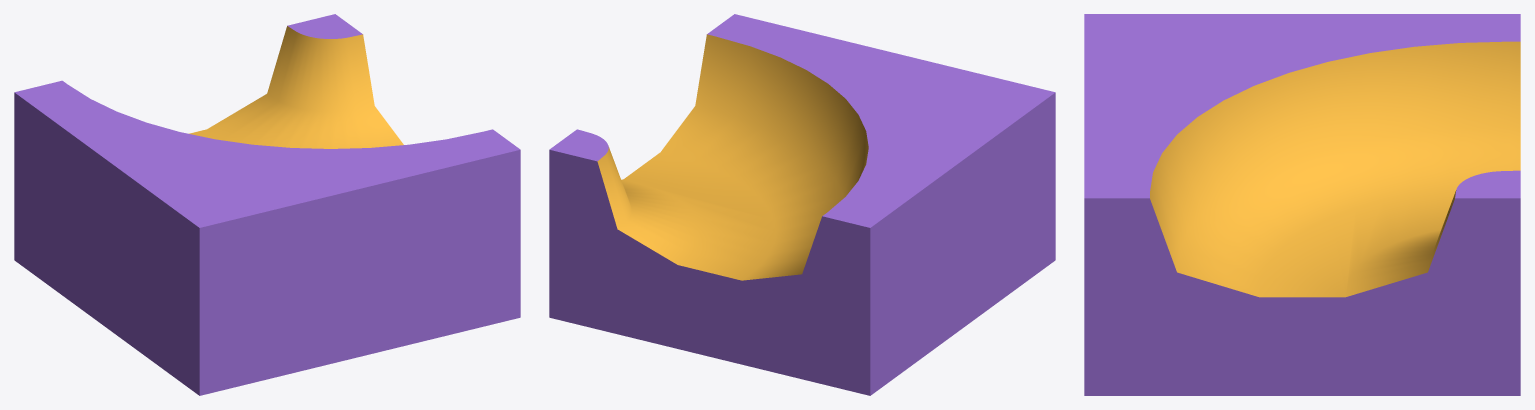
Rendered from corner-solid-col.glb.
3 views of the same model, side by side, from view 1: azimuth 30°, elevation 25°; view 2: azimuth 150°, elevation 25°; view 3: azimuth 270°, elevation 25° (orthographic). The views are drawn at different scales.
Parts seen in each view (by area): view 1: corner-solid-col; view 2: corner-solid-col; view 3: corner-solid-col.
Part boxes in pixels (x1,y1,x2,y2): corner-solid-col: (14,14,520,395); corner-solid-col: (549,14,1055,395); corner-solid-col: (1084,14,1520,395).
Bounding box in the file's own units: 1 × 0.5 × 1.
1 material, 1 textured.
